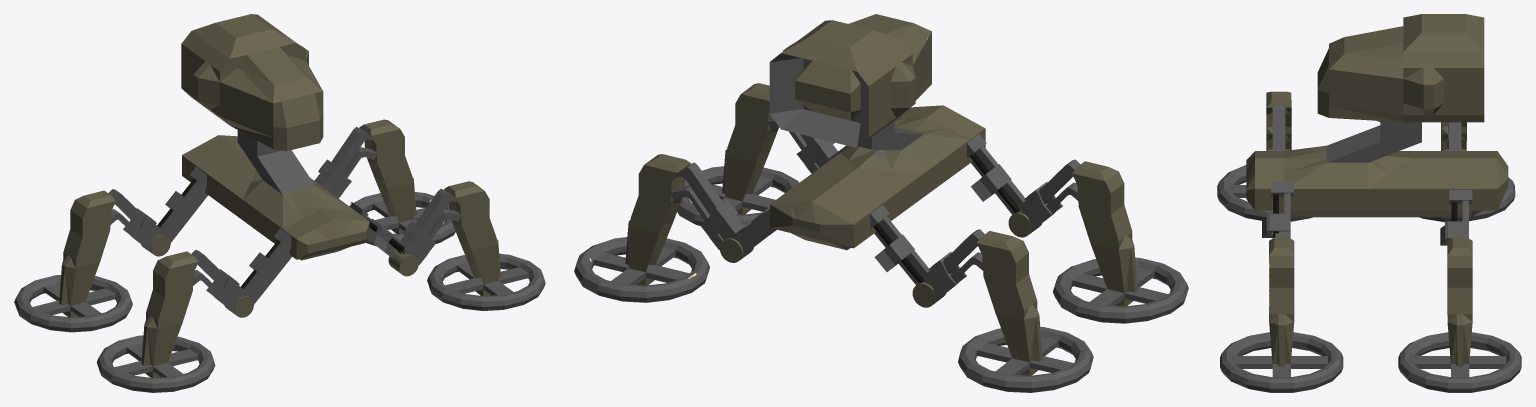
File: enemy_robot01.obj
The picture shows the model from 3 angles, left to right: view 1: azimuth 30°, elevation 25°; view 2: azimuth 150°, elevation 25°; view 3: azimuth 270°, elevation 25°; orthographic projection. The views are drawn at different scales.
Parts seen in each view (by area): view 1: 立方体.001, 立方体; view 2: 立方体.001, 立方体; view 3: 立方体, 立方体.001.
Boxes of the visible parts, x1=… form: 立方体.001: x1=14, y1=119, x2=545, y2=392; 立方体: x1=181, y1=14, x2=369, y2=260; 立方体.001: x1=574, y1=83, x2=1188, y2=392; 立方体: x1=769, y1=14, x2=985, y2=250; 立方体: x1=1246, y1=14, x2=1508, y2=217; 立方体.001: x1=1217, y1=91, x2=1521, y2=392.
Bounding box in the file's own units: 2 × 1.14 × 1.15.
Materials: 2 (2 with a texture image).
